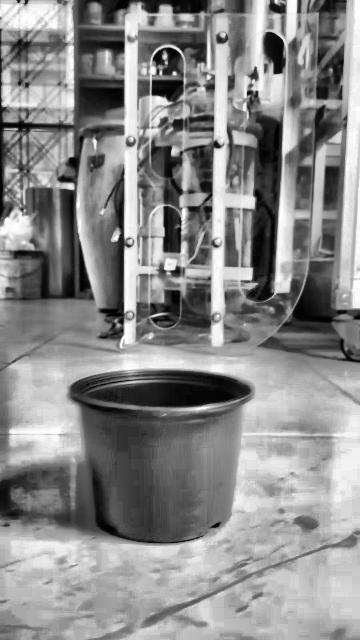pot: (68, 369, 253, 544)
